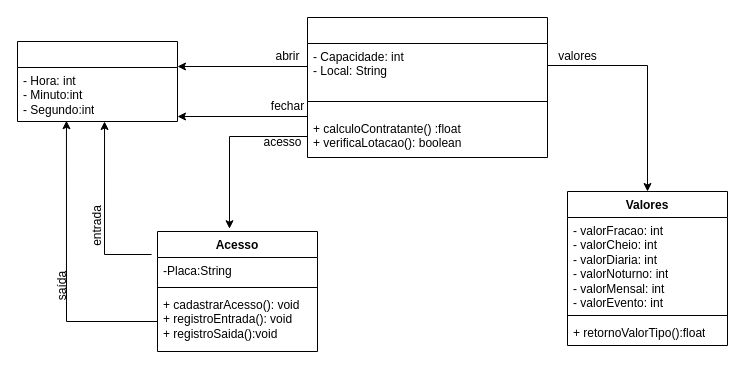
Image size: 745x372. Some labels were removed from this diagram. The shapes that lost their labels are listed below. From the top down, each one's box as (x1, y1, x2, y2) in pixels, then its label:
(16, 40, 178, 122): Horario
(306, 16, 548, 158): Estacionamento
